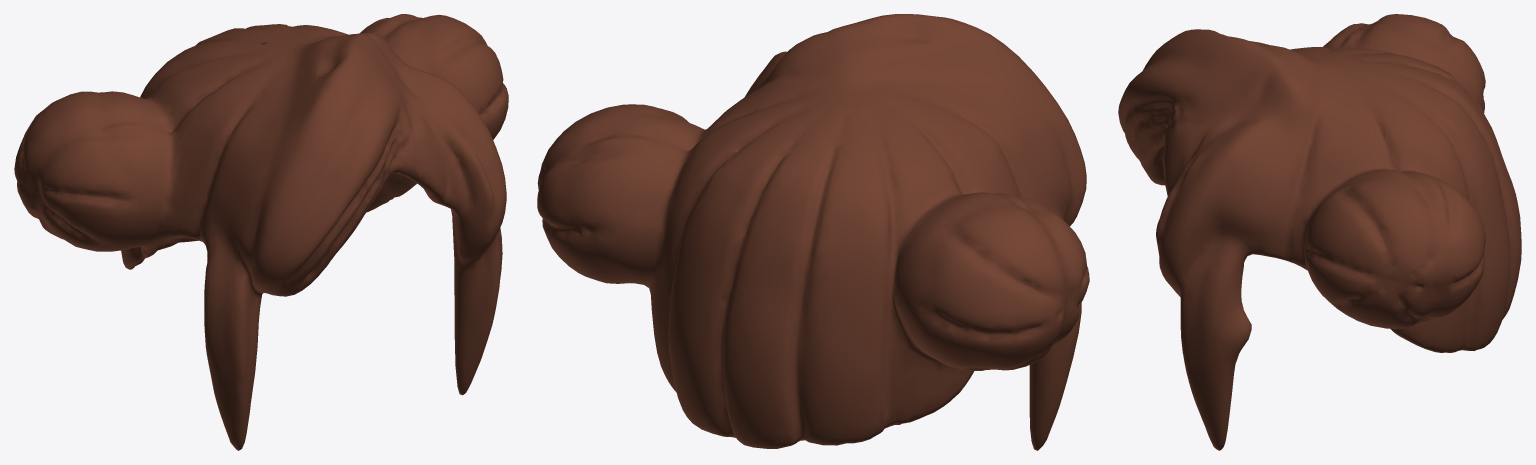
File: cinnamon_twin_buns.glb
The picture shows the model from 3 angles, left to right: view 1: azimuth 30°, elevation 25°; view 2: azimuth 150°, elevation 25°; view 3: azimuth 270°, elevation 25°; orthographic projection. The views are drawn at different scales.
Visible parts, largest first — view 1: cinnamon_twin_buns; view 2: cinnamon_twin_buns; view 3: cinnamon_twin_buns.
Boxes of the visible parts, x1,y1,x2,y2 form: cinnamon_twin_buns: [14, 14, 508, 450]; cinnamon_twin_buns: [537, 14, 1089, 450]; cinnamon_twin_buns: [1118, 14, 1521, 450].
Size of the model in its own units: 1.24 by 0.9371 by 0.9447.
